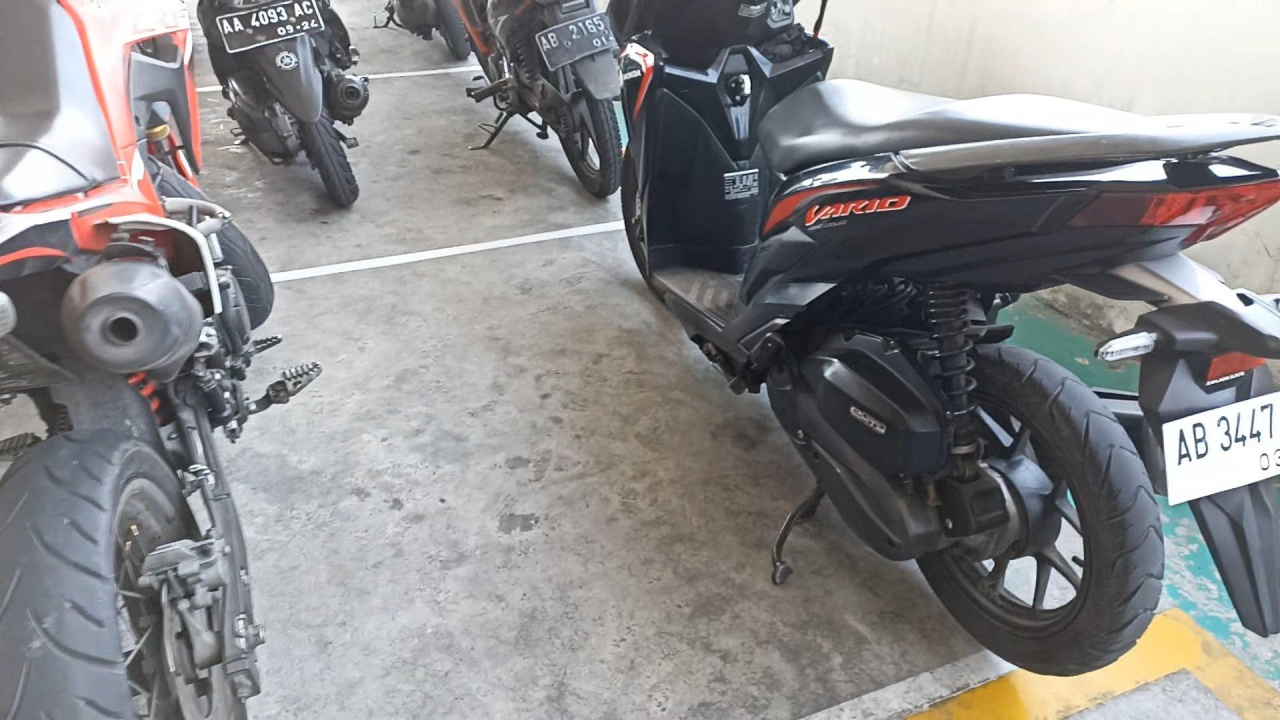plate: (217, 0, 324, 52)
